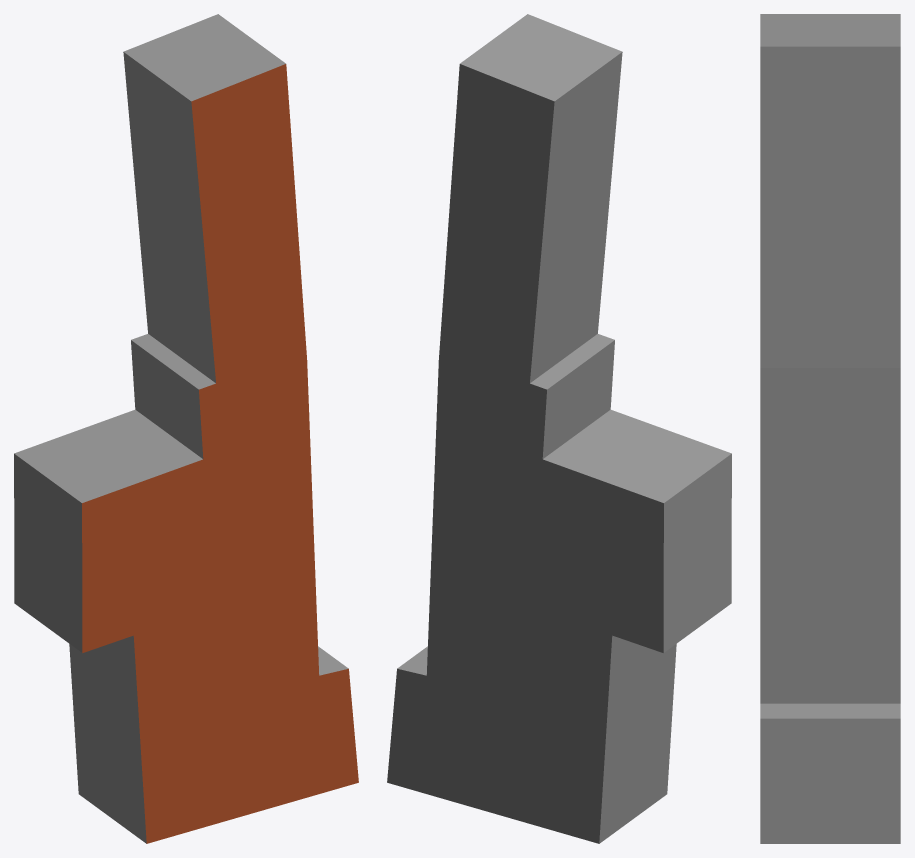
The model's file is construction_7045_assumed_A_Casa_h6m.obj.
3 views of the same model, side by side, from view 1: azimuth 30°, elevation 25°; view 2: azimuth 150°, elevation 25°; view 3: azimuth 270°, elevation 25° (orthographic). The views are drawn at different scales.
Visible parts, largest first — view 1: construction_7045_assumed_A_Casa; view 2: construction_7045_assumed_A_Casa; view 3: construction_7045_assumed_A_Casa.
Boxes of the visible parts, x1,y1,x2,y2 form: construction_7045_assumed_A_Casa: (14,14,358,843); construction_7045_assumed_A_Casa: (387,14,731,843); construction_7045_assumed_A_Casa: (760,14,900,843).
Bounding box in the file's own units: 14.1 × 36.31 × 6.
